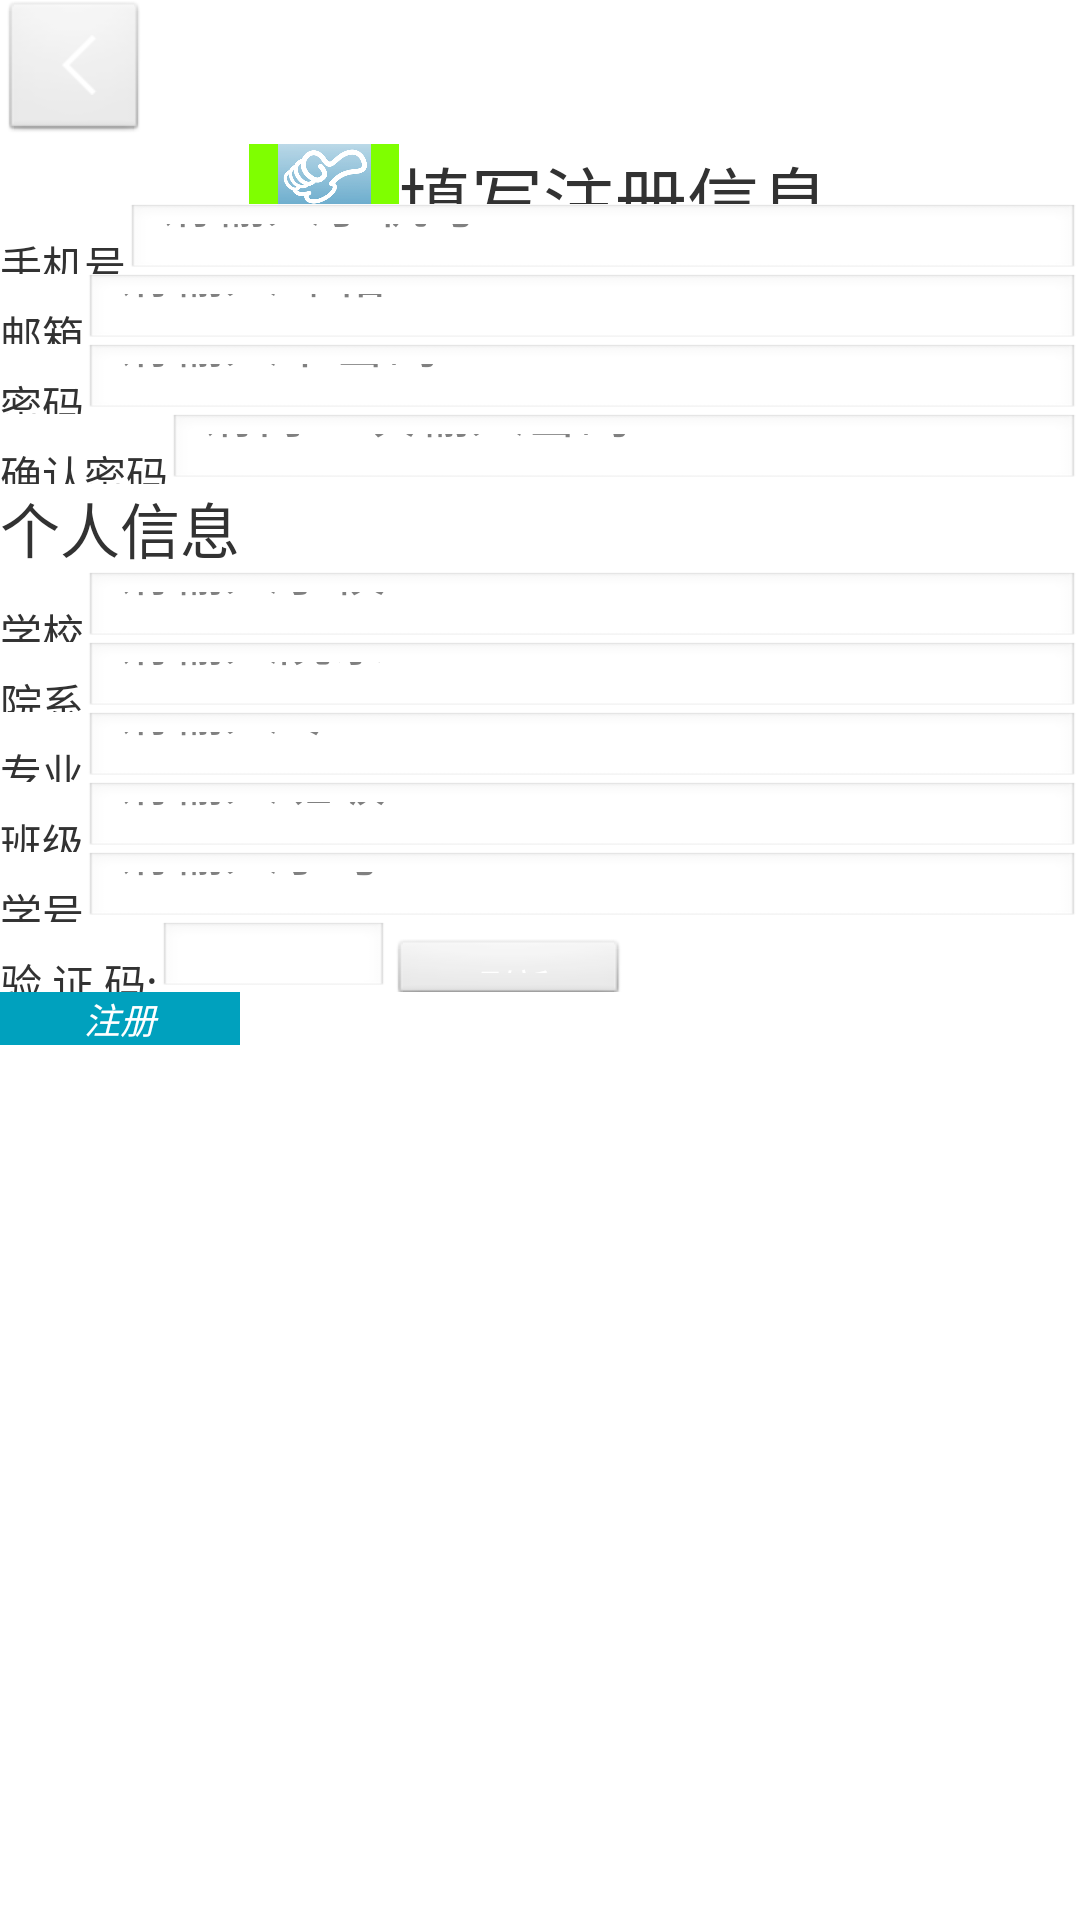

Icon bounding boxes for this 1080x1920 phone screenshot, format (x1, y1, x2, y2):
back: (8, 2, 140, 132)
